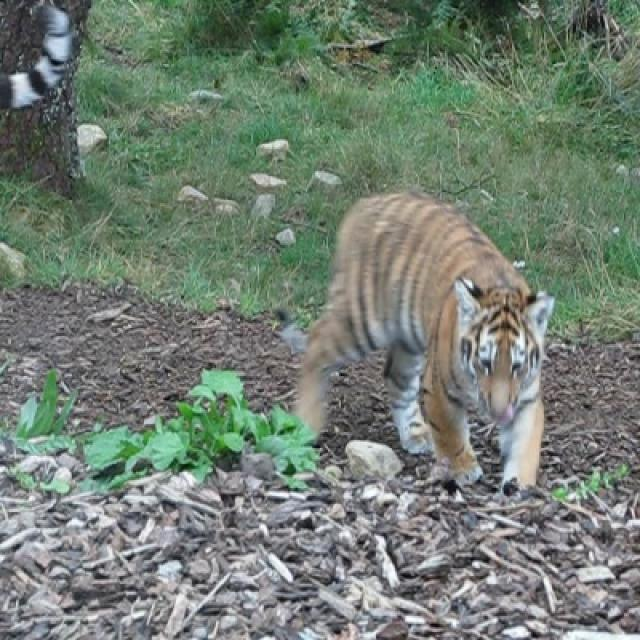Tiger: (300, 195, 562, 485)
